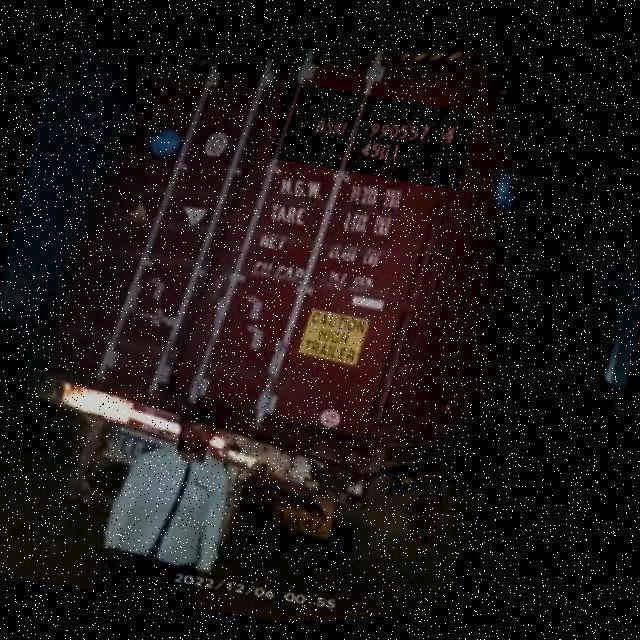container_number_h: (269, 75, 476, 205)
